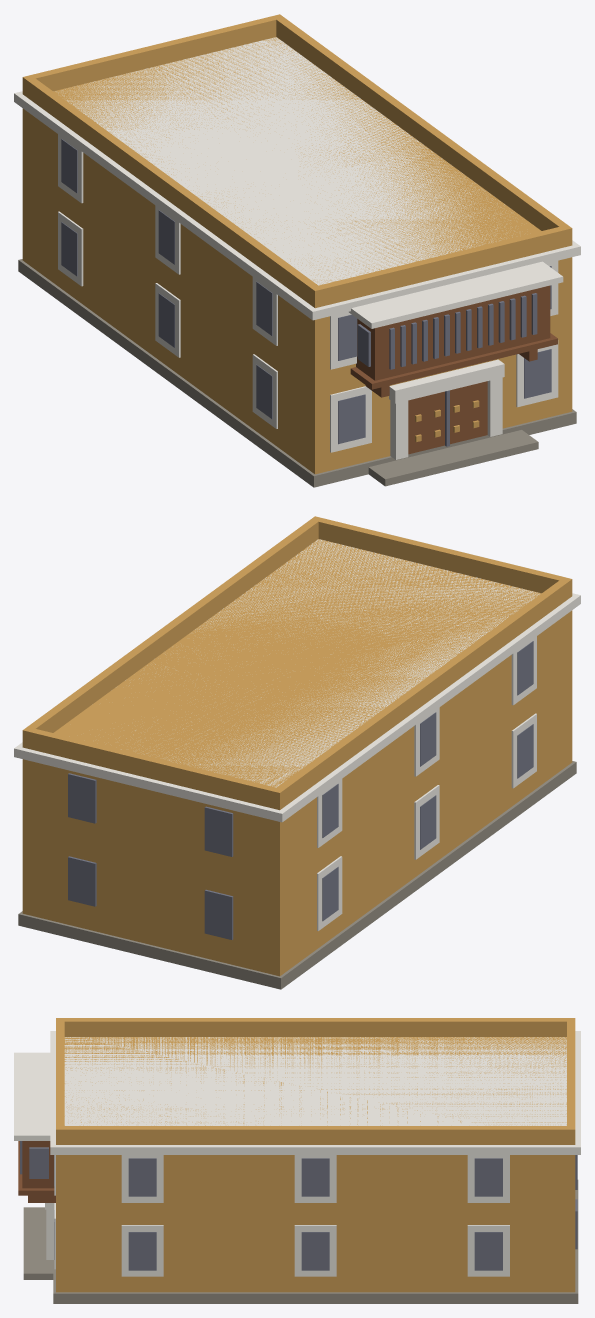
Rendered from house-1x2-2f-quincha-a.glb.
The picture shows the model from 3 angles, top to bottom: view 1: azimuth 30°, elevation 25°; view 2: azimuth 150°, elevation 25°; view 3: azimuth 270°, elevation 25°; orthographic projection. The views are drawn at different scales.
Parts seen in each view (by area): view 1: house-1x2-2f-quincha-a; view 2: house-1x2-2f-quincha-a; view 3: house-1x2-2f-quincha-a.
Part boxes in pixels (x1=…): house-1x2-2f-quincha-a: x1=14, y1=14, x2=580, y2=487; house-1x2-2f-quincha-a: x1=14, y1=516, x2=580, y2=989; house-1x2-2f-quincha-a: x1=14, y1=1018, x2=580, y2=1303.
Bounding box in the file's own units: 0.98 × 0.68 × 2.02.
Materials: 1 (1 with a texture image).
